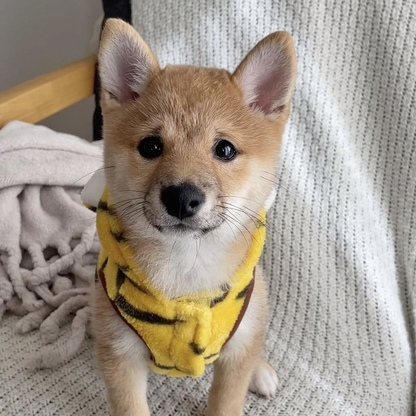shiba: (86, 12, 302, 416)
